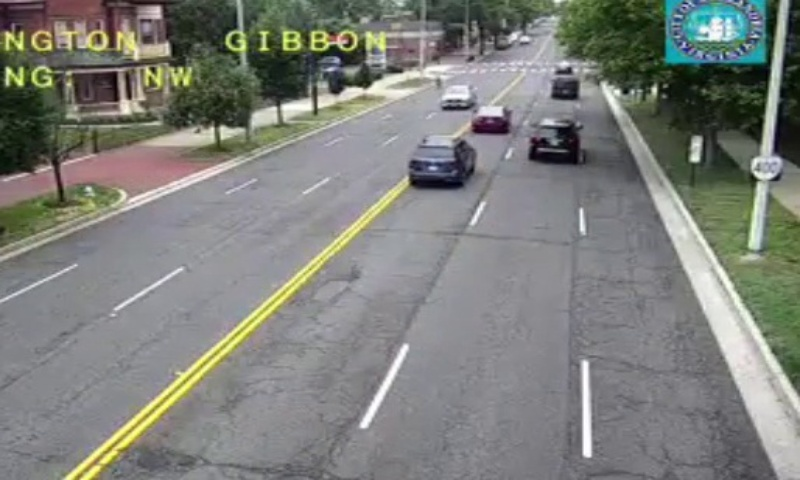car: (407, 135, 474, 182), (529, 119, 578, 154), (470, 106, 508, 134), (550, 76, 580, 101)
